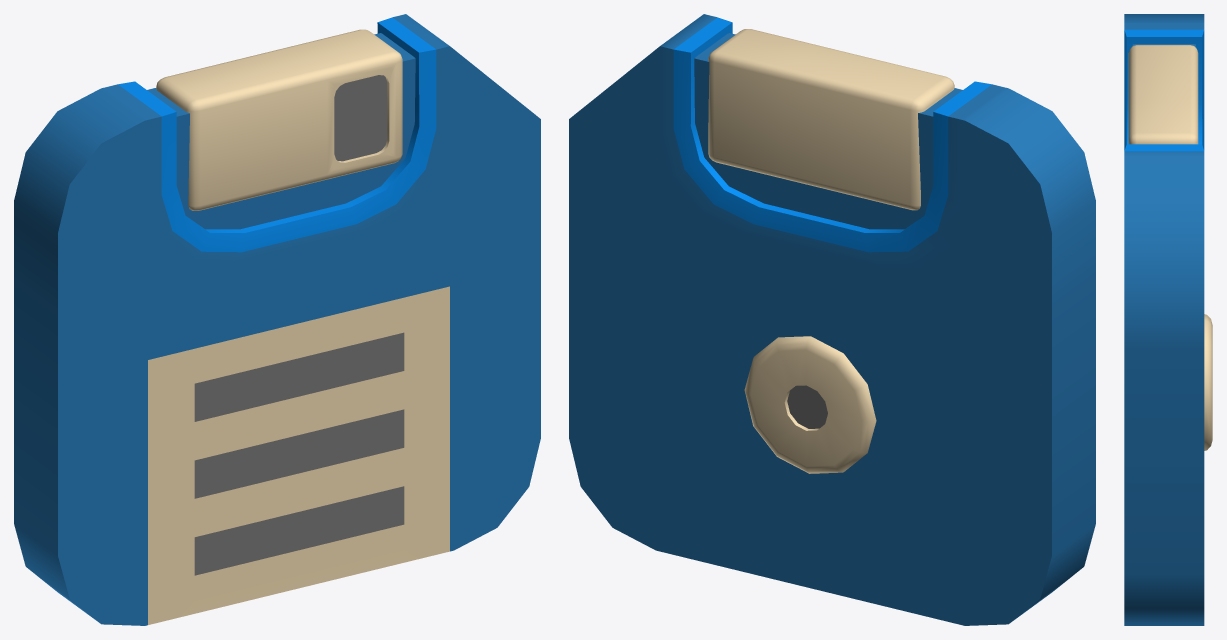
File: Saving Icon_2.fbx
The picture shows the model from 3 angles, left to right: view 1: azimuth 30°, elevation 25°; view 2: azimuth 150°, elevation 25°; view 3: azimuth 270°, elevation 25°; orthographic projection. The views are drawn at different scales.
Parts seen in each view (by area): view 1: Saving Icon_2; view 2: Saving Icon_2; view 3: Saving Icon_2.
Boxes of the visible parts, x1=… form: Saving Icon_2: x1=14, y1=14, x2=540, y2=625; Saving Icon_2: x1=569, y1=14, x2=1095, y2=625; Saving Icon_2: x1=1124, y1=14, x2=1212, y2=625.
Size of the model in its own units: 0.2648 by 0.2658 by 0.0461.
